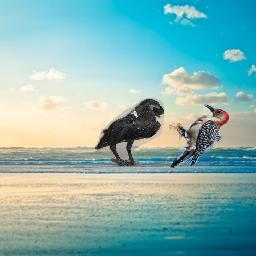Crow: (96, 98, 165, 166)
Woodpecker: (170, 104, 231, 169)
